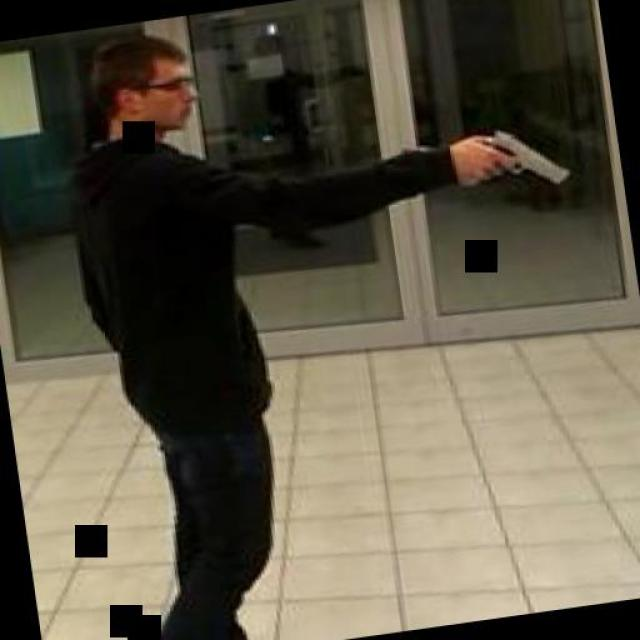gun: (452, 114, 568, 195)
